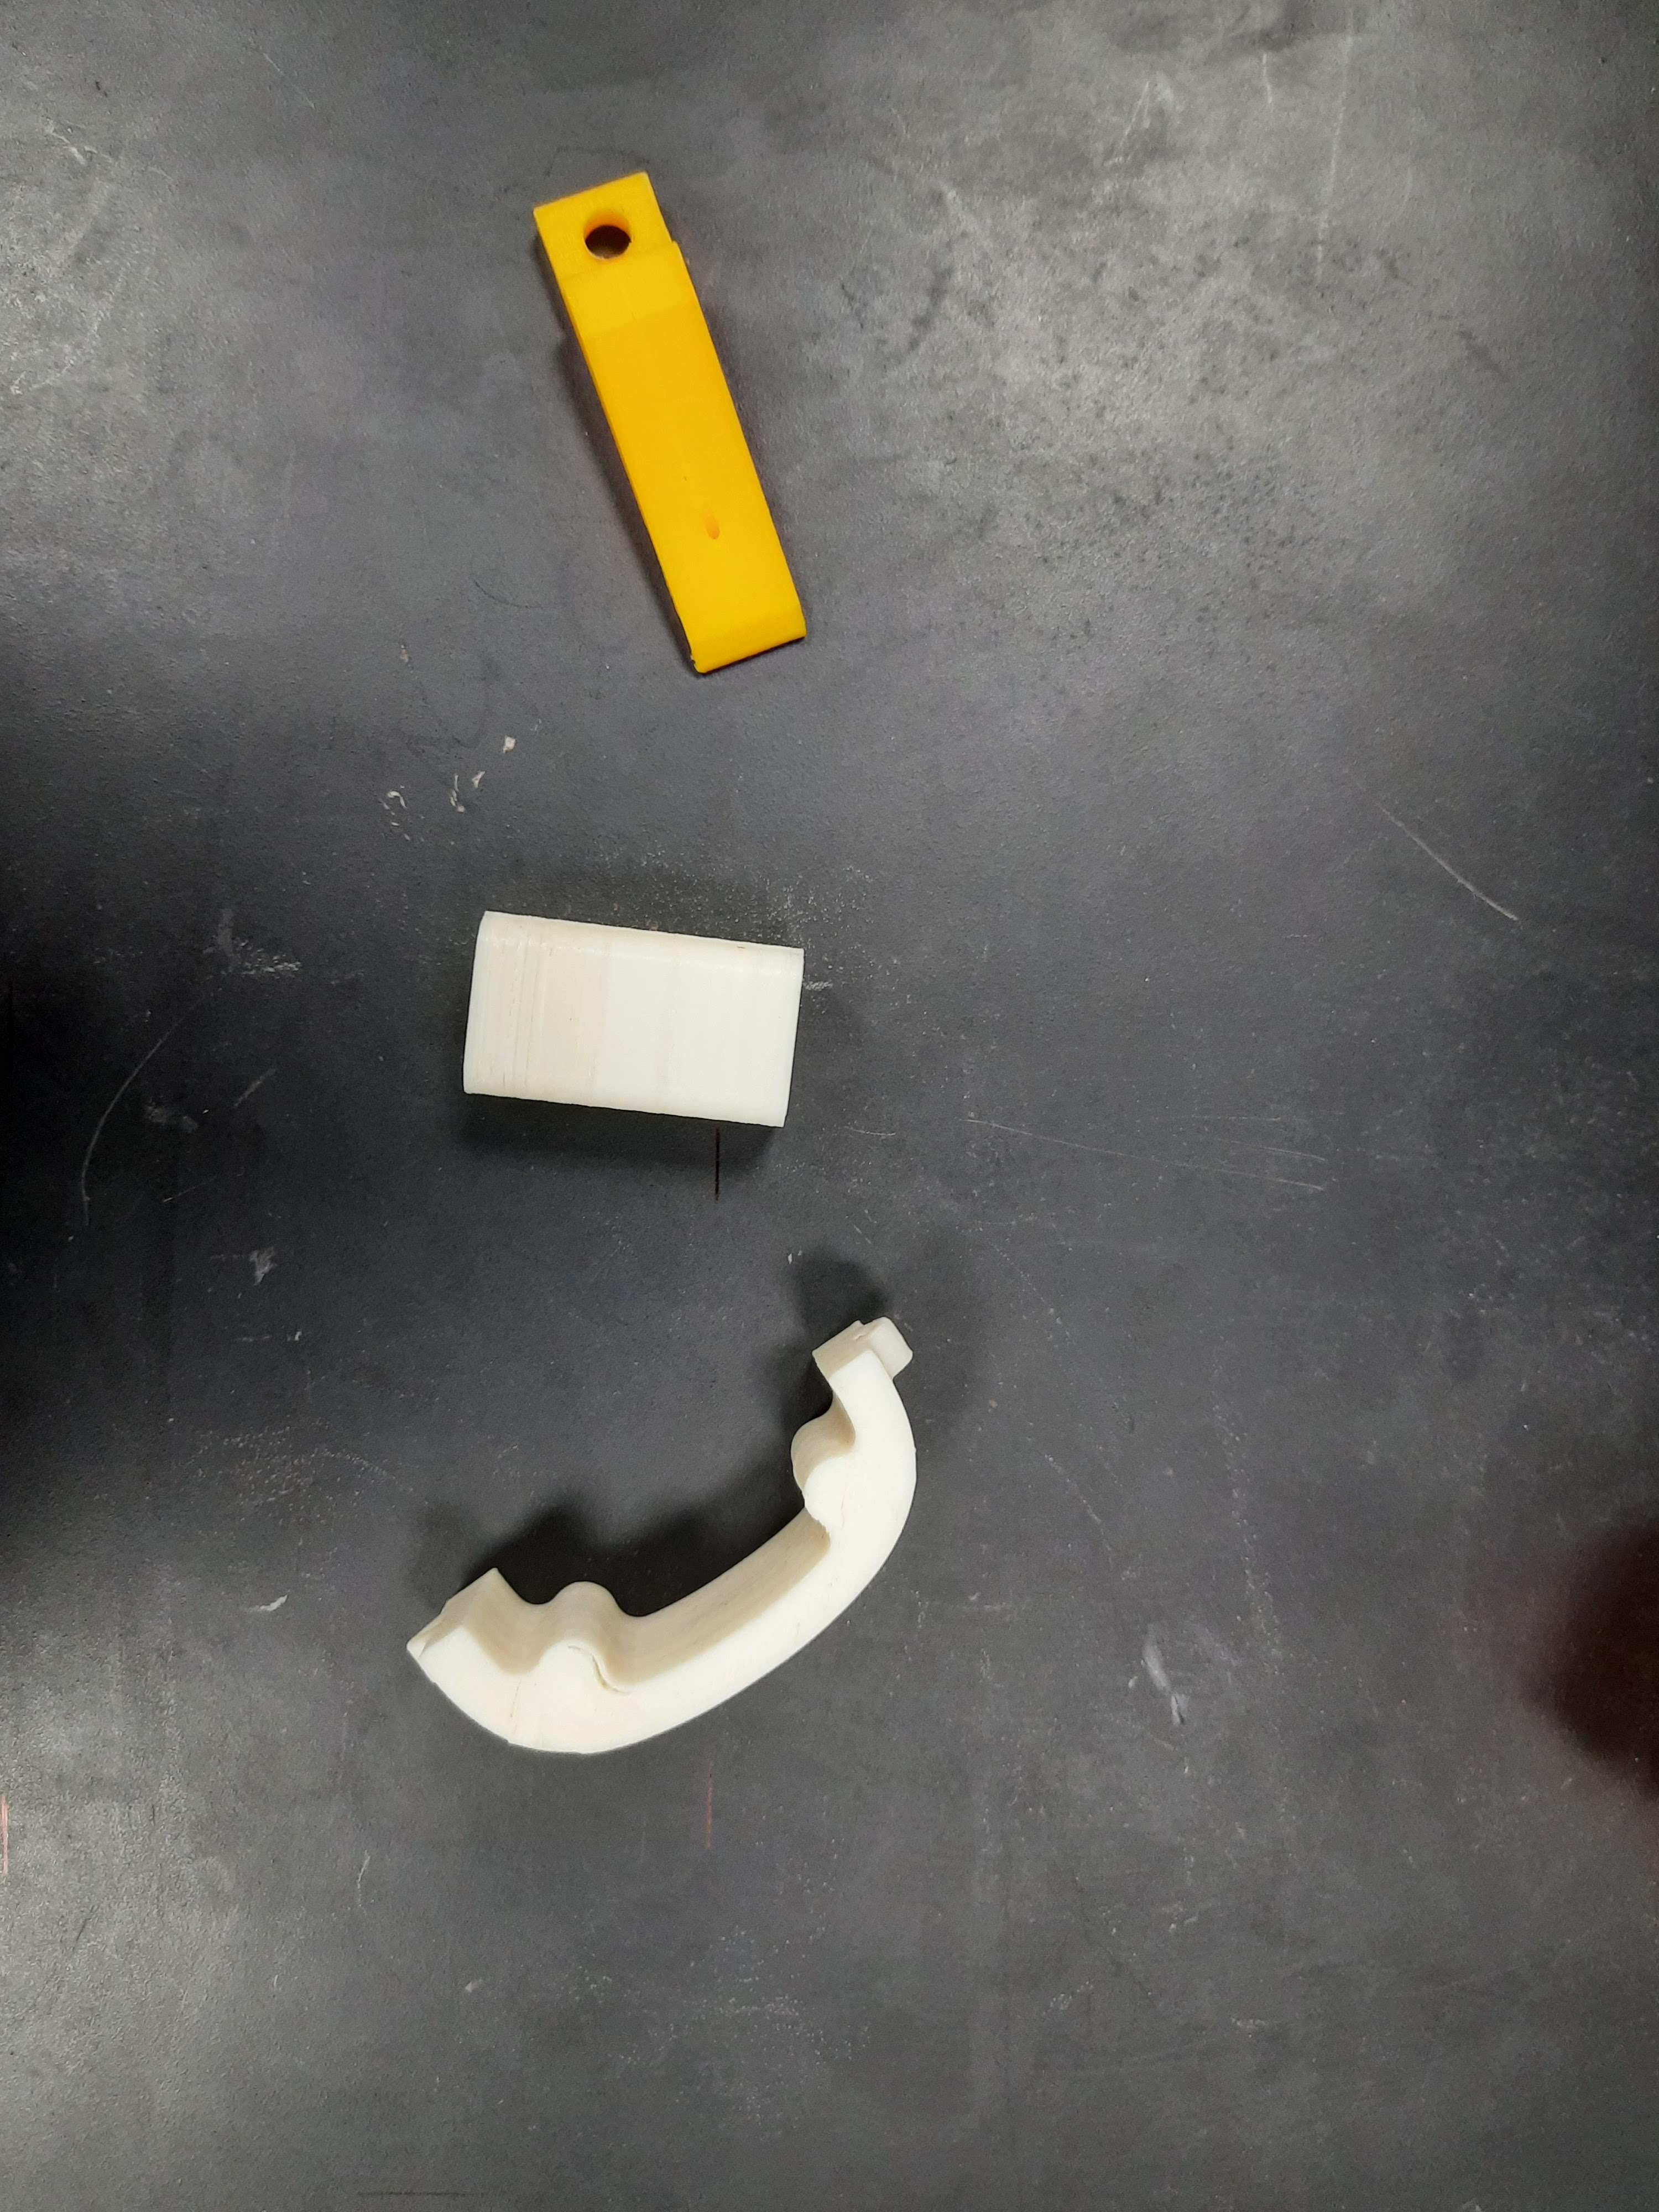ARC: (390, 1303, 1023, 1827)
CUBE: (469, 916, 805, 1120)
YELLOW: (523, 164, 816, 678)
